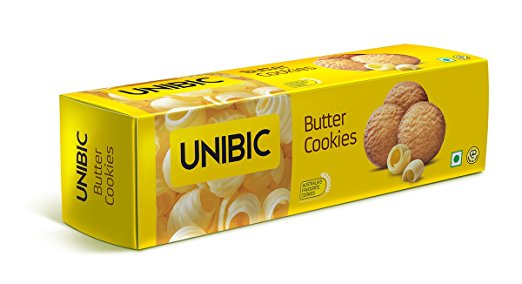VEG: (450, 150, 464, 167), (438, 55, 457, 64)
